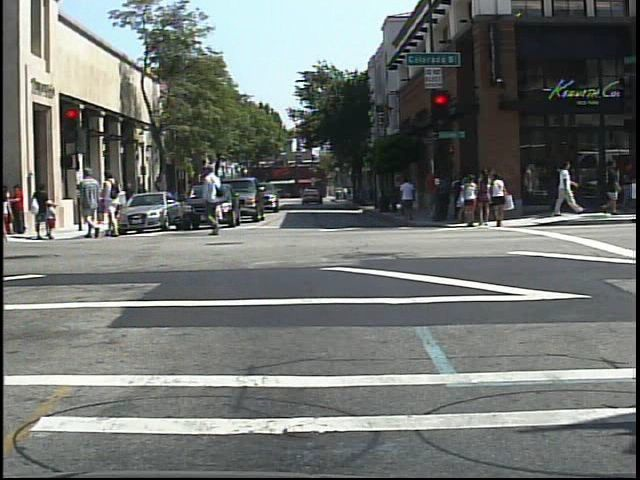person: (200, 163, 232, 238), (74, 164, 103, 243), (102, 167, 126, 238)
